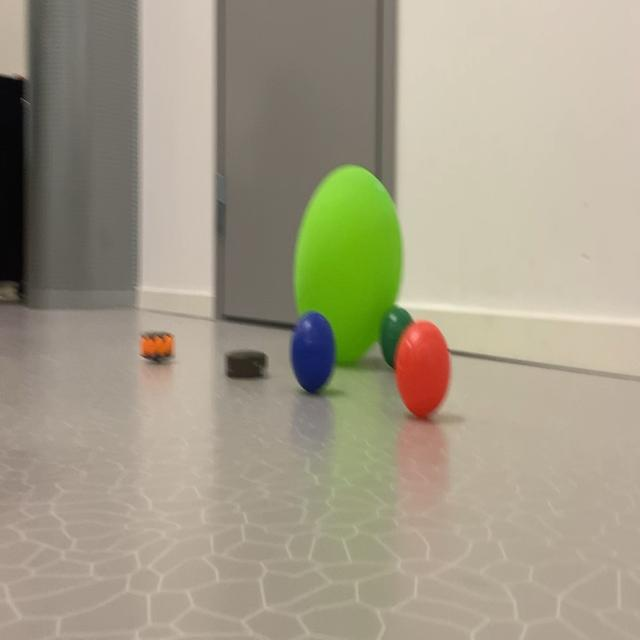blue ball: (290, 314, 334, 398)
green ball: (383, 311, 407, 332)
red ball: (397, 323, 449, 418)
